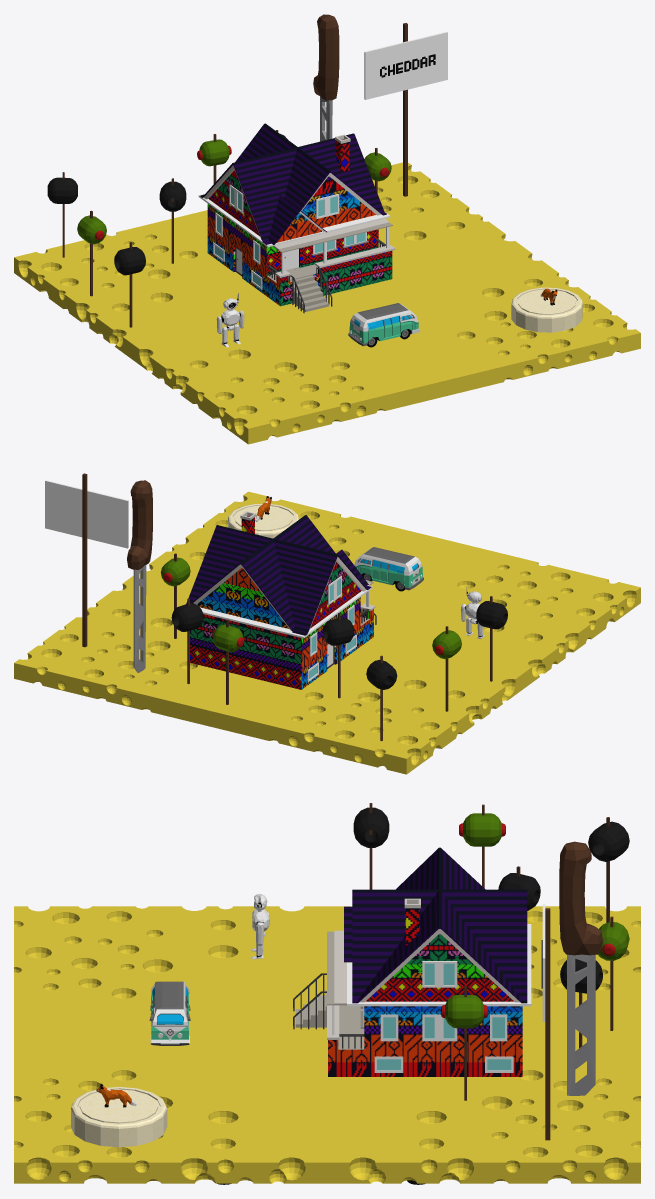
The picture shows the model from 3 angles, top to bottom: view 1: azimuth 30°, elevation 25°; view 2: azimuth 150°, elevation 25°; view 3: azimuth 270°, elevation 25°; orthographic projection. The views are drawn at different scales.
Parts seen in each view (by area): view 1: Cube.022, Cube.966, Cube.023, Cylinder.016, Cube.024, VEHICLES_VAN, Sphere.017, Sphere.016, OBJRANDOM_PLATZEEBOT, Sphere.020, Sphere.018, Sphere.022 (+1 smaller); view 2: Cube.022, Cube.966, Cube.023, Cube.024, VEHICLES_VAN, Cylinder.016, Sphere.017, Sphere.020, Sphere.021, Sphere.016, Sphere.018, Sphere.022 (+2 smaller); view 3: Cube.022, Cube.966, Cube.024, Cylinder.016, VEHICLES_VAN, Cube.023, Sphere.019, Sphere.016, Sphere.018, Sphere.017, Sphere.022, Sphere.020 (+2 smaller).
Part boxes in pixels (x1,y1,x2,y2): Cube.022: (14, 162, 640, 444); Cube.966: (198, 123, 395, 313); Cube.023: (364, 23, 447, 196); Cylinder.016: (511, 287, 582, 332); Cube.024: (313, 14, 339, 141); VEHICLES_VAN: (348, 303, 420, 347); Sphere.017: (114, 242, 145, 327); Sphere.016: (47, 172, 77, 257); OBJRANDOM_PLATZEEBOT: (216, 293, 244, 347); Sphere.020: (159, 178, 186, 263); Sphere.018: (77, 210, 106, 296); Sphere.022: (197, 134, 231, 183); Cube.022: (14, 491, 640, 774); Cube.966: (185, 511, 376, 689); Cube.023: (45, 473, 128, 647); Cube.024: (127, 480, 152, 672); VEHICLES_VAN: (354, 547, 423, 591); Cylinder.016: (228, 503, 298, 538); Sphere.017: (476, 596, 507, 681); Sphere.020: (322, 612, 354, 698); Sphere.021: (171, 598, 203, 683); Sphere.016: (366, 655, 397, 741); Sphere.018: (432, 626, 461, 711); Sphere.022: (212, 619, 244, 704); Cube.022: (14, 906, 640, 1183); Cube.966: (293, 847, 531, 1076); Cube.024: (559, 841, 602, 1095); Cylinder.016: (71, 1086, 167, 1147); VEHICLES_VAN: (149, 981, 190, 1045); Cube.023: (541, 904, 550, 1140); Sphere.019: (441, 986, 487, 1100); Sphere.016: (588, 817, 629, 922); Sphere.018: (459, 804, 505, 887); Sphere.017: (353, 803, 389, 889); Sphere.022: (598, 916, 629, 1030); Sphere.020: (498, 866, 540, 910).
Size of the model in its own units: 3917 by 1985 by 4000.
Materials: 43 (7 with a texture image).
